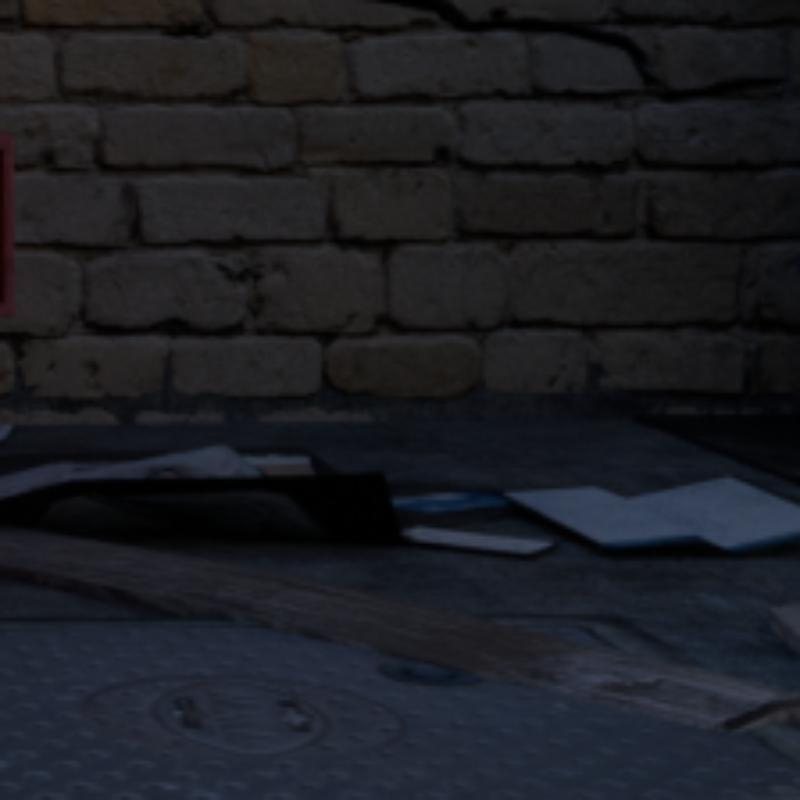crack: (379, 0, 786, 100)
